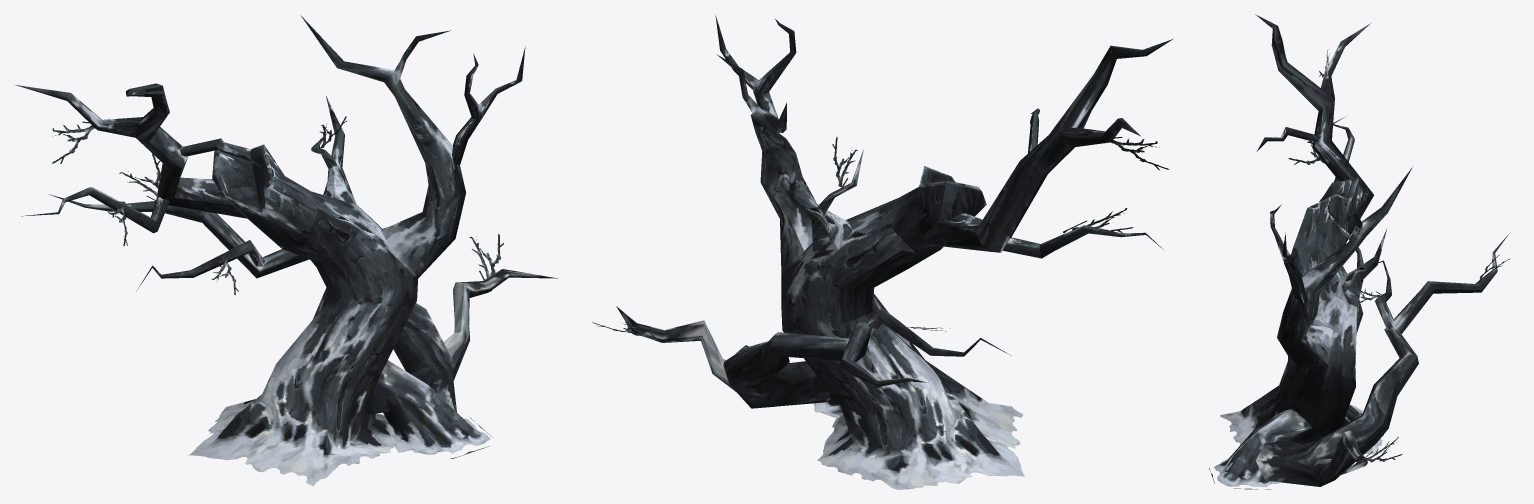
The model's file is 2005_Item_shu_1.FBX.
The picture shows the model from 3 angles, left to right: view 1: azimuth 30°, elevation 25°; view 2: azimuth 150°, elevation 25°; view 3: azimuth 270°, elevation 25°; orthographic projection. The views are drawn at different scales.
Visible parts, largest first — view 1: 2005_Item_shu_1; view 2: 2005_Item_shu_1; view 3: 2005_Item_shu_1.
Boxes of the visible parts, x1,y1,x2,y2 form: 2005_Item_shu_1: (15,15,557,485); 2005_Item_shu_1: (592,15,1172,489); 2005_Item_shu_1: (1209,14,1510,489).
Size of the model in its own units: 920 by 684 by 574.
